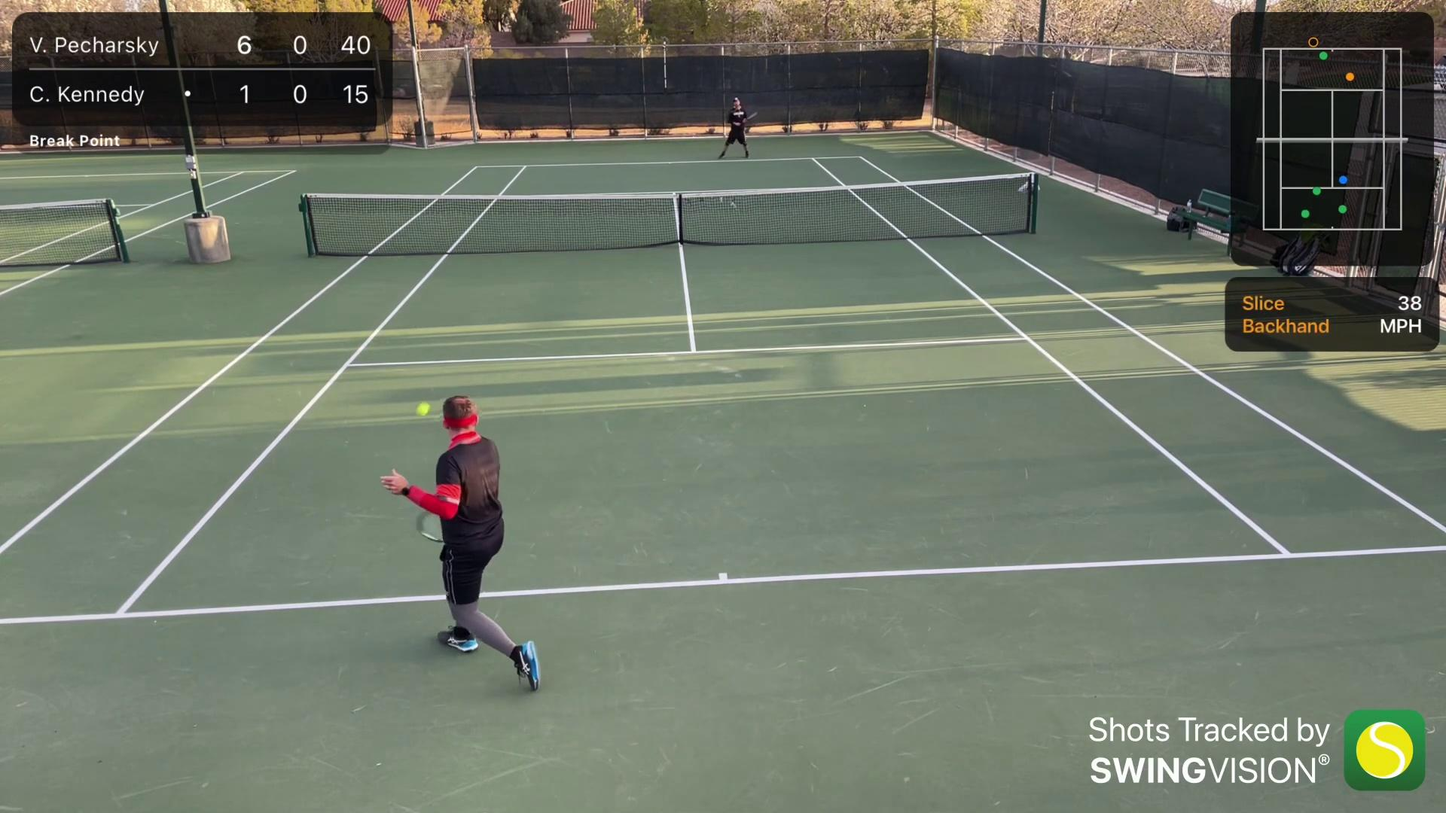ball: (411, 400, 433, 419)
